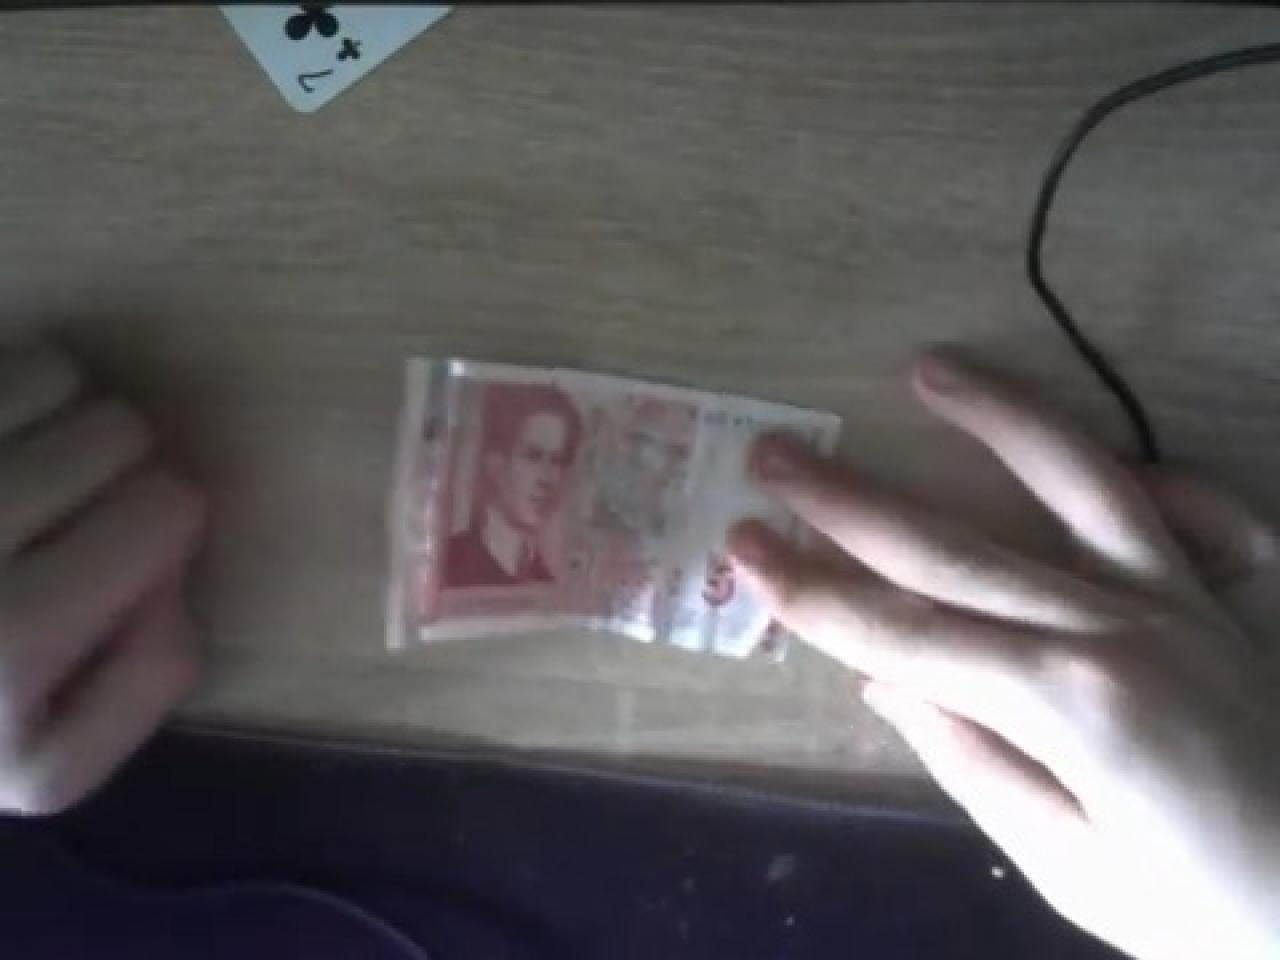5leva: (384, 357, 840, 656)
